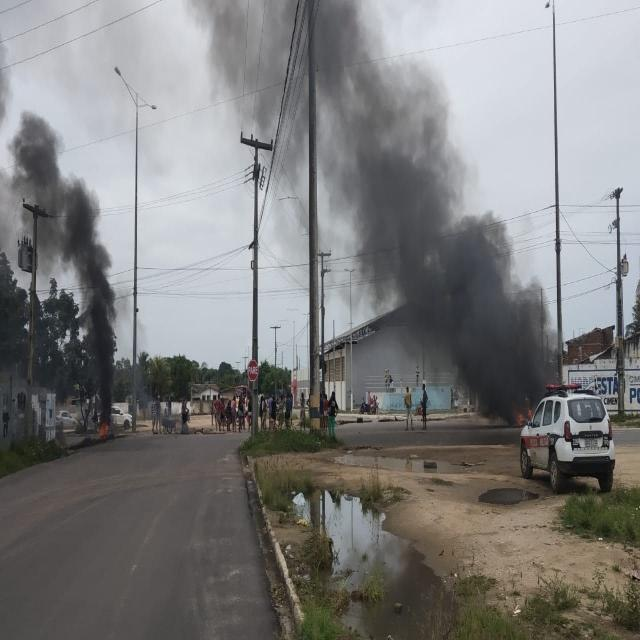Fire: (515, 407, 532, 430), (100, 422, 108, 439)
Smoke: (203, 0, 444, 193), (423, 206, 551, 404), (5, 110, 99, 243), (89, 247, 115, 421)
